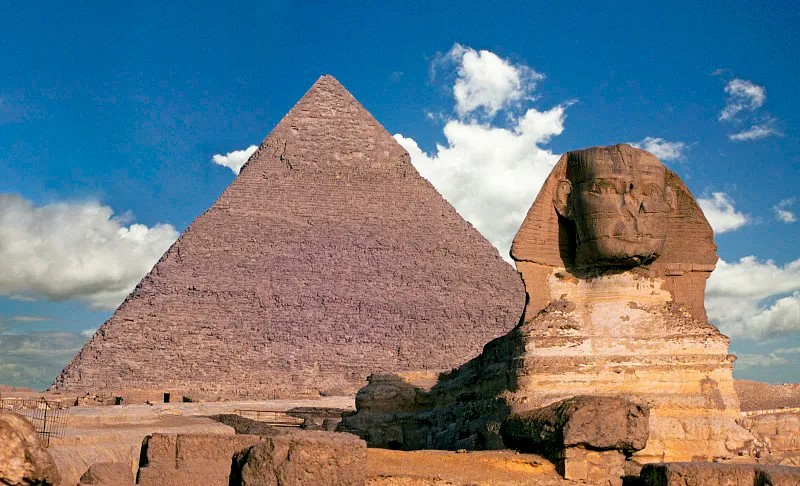Pyramid: (43, 73, 528, 398)
